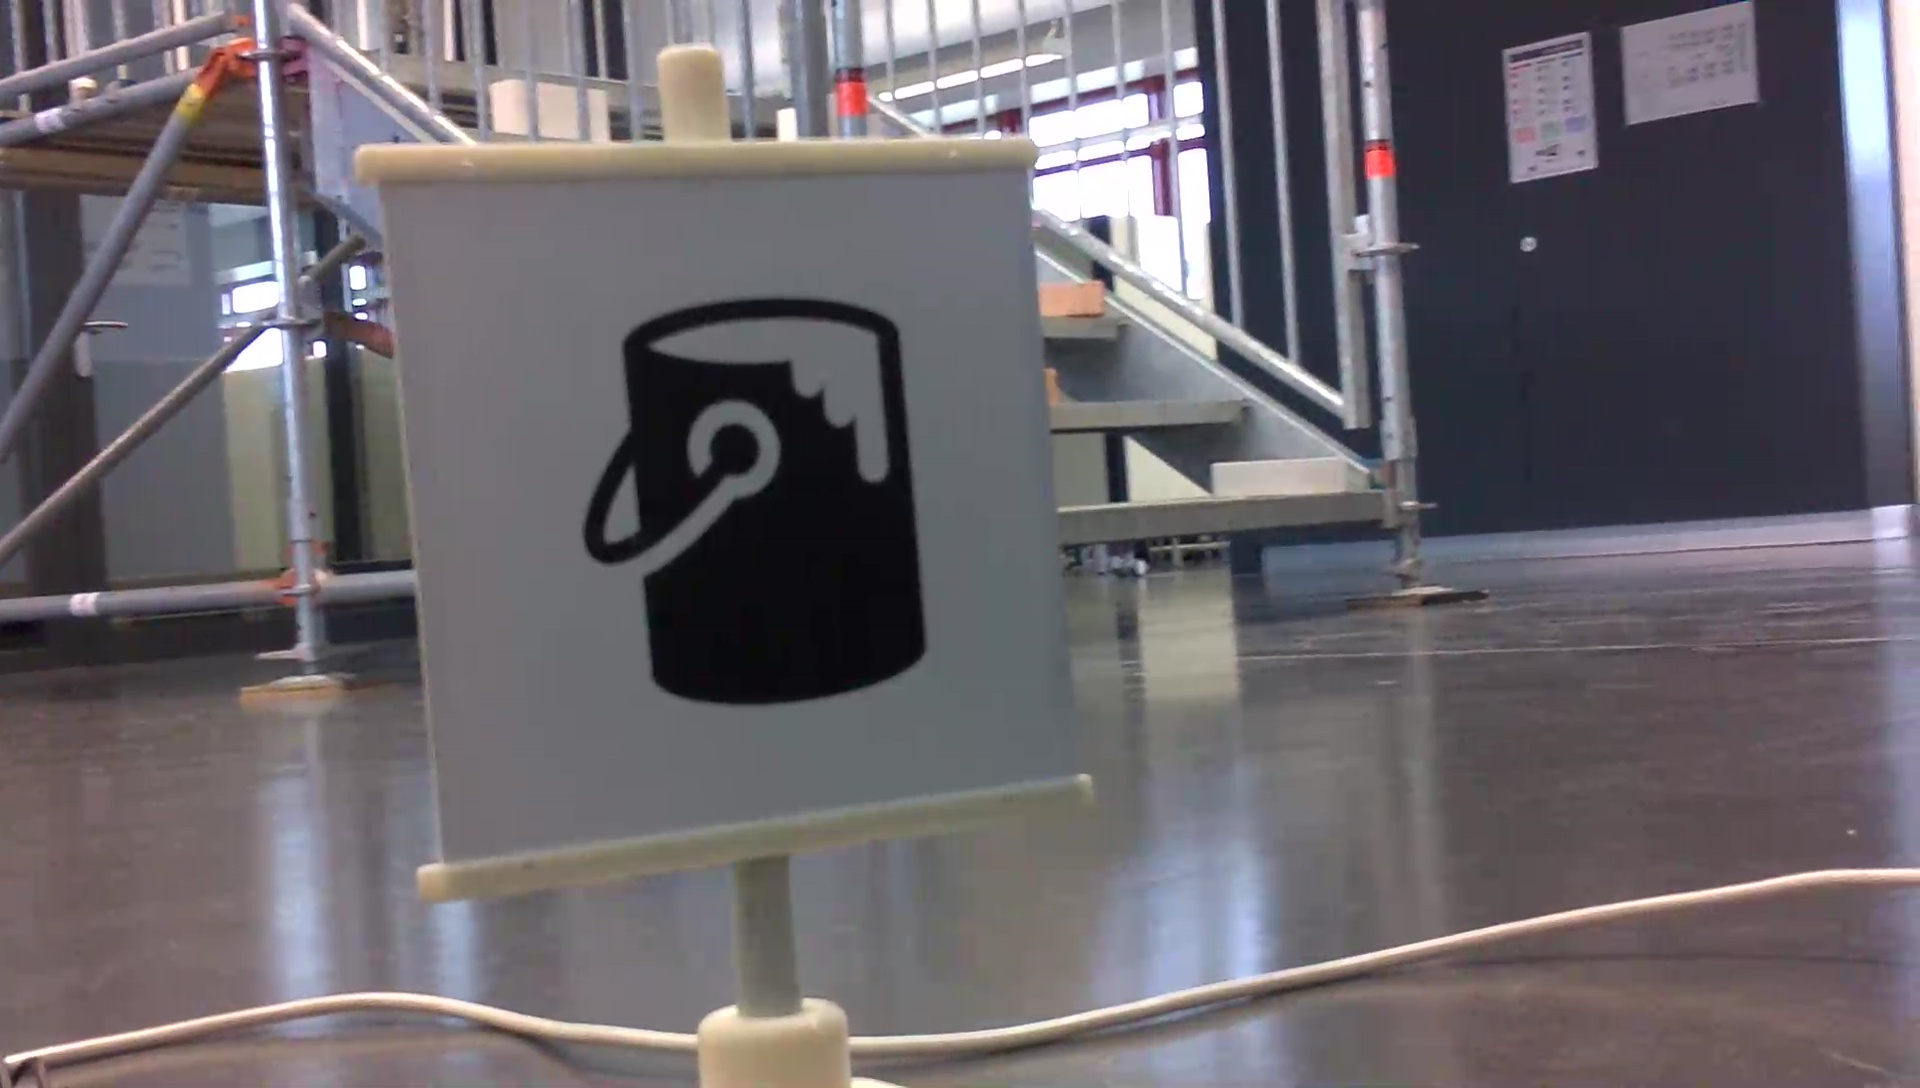brick: (1212, 458, 1346, 495), (1038, 282, 1100, 313)
bucket: (572, 290, 938, 717)
edge: (1058, 495, 1381, 543), (1048, 400, 1255, 426)
